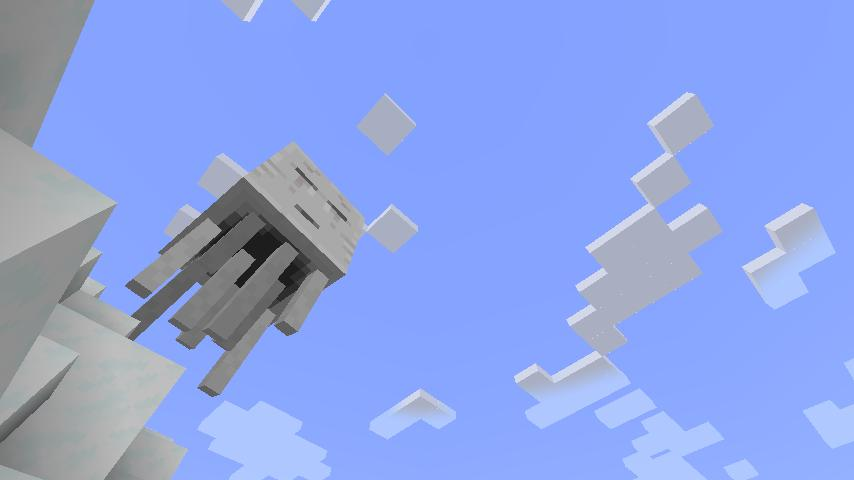ghast: (128, 139, 363, 403)
